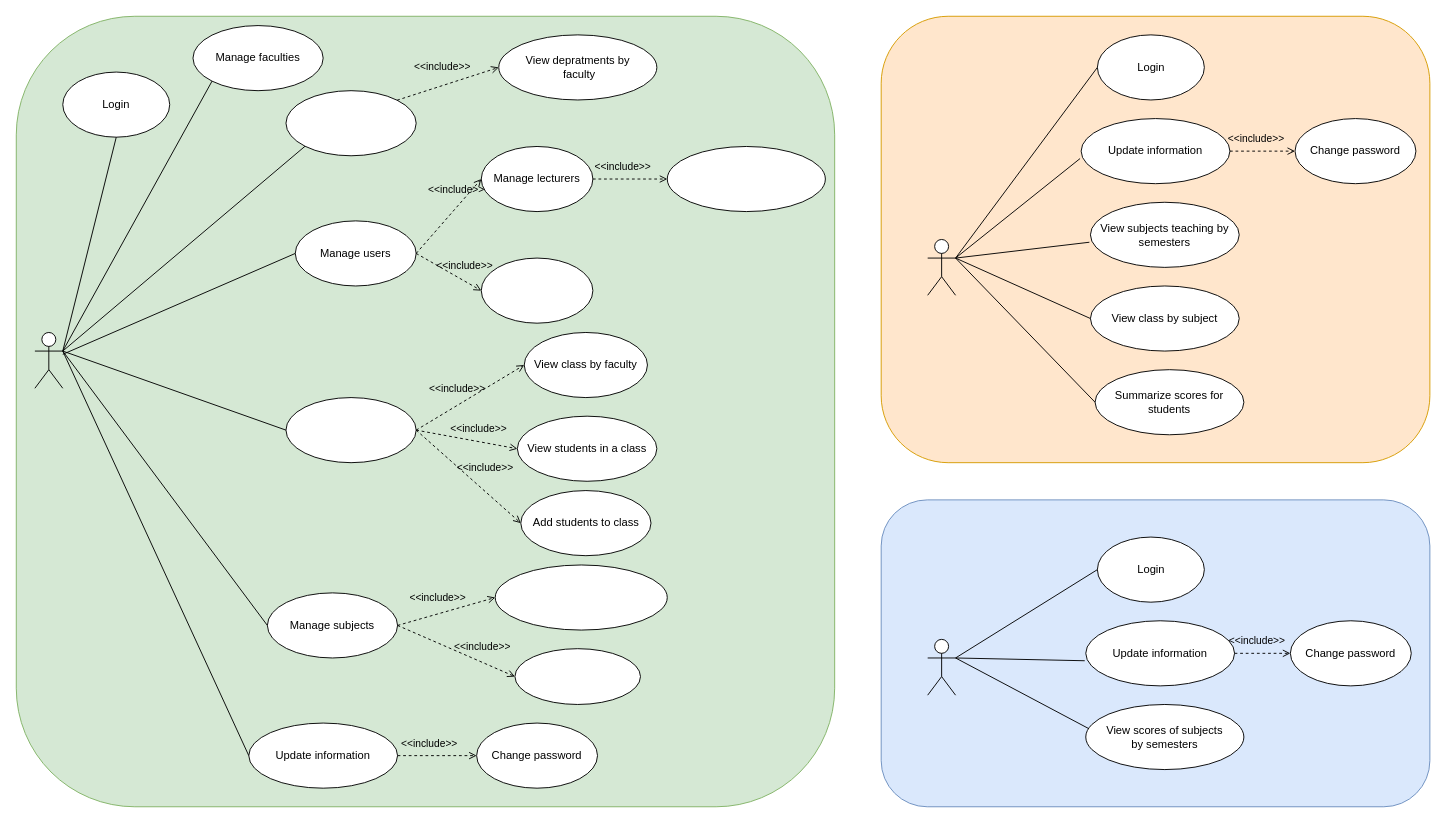
This 1446x823 diagram has some shape labels left out. The centre of each missing label's shape, as x and y in pixels:
"Admin" goes at pixel 48 360.
"Assign class" goes at pixel 577 676.
"Assign subject for lecturer by semester" goes at pixel 580 597.
"Lecturer" goes at pixel 941 267.
"Manage class" goes at pixel 350 430.
"Manage departments" goes at pixel 350 123.
"Manage students" goes at pixel 536 290.
"Student" goes at pixel 941 666.
"View lecturers by faculty and department" goes at pixel 745 179.
